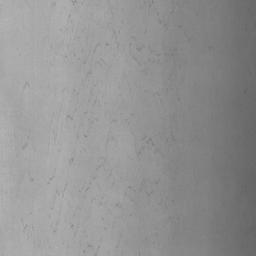Silk spot: (142, 136, 155, 146)
